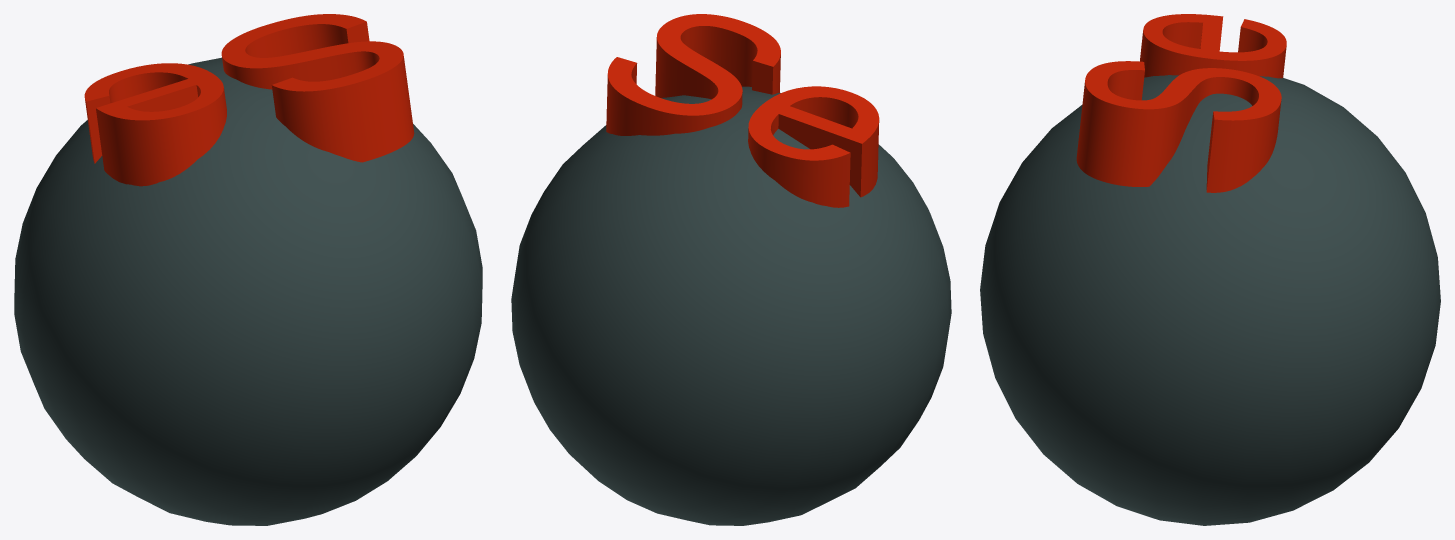
The picture shows the model from 3 angles, left to right: view 1: azimuth 30°, elevation 25°; view 2: azimuth 150°, elevation 25°; view 3: azimuth 270°, elevation 25°; orthographic projection. The views are drawn at different scales.
Visible parts, largest first — view 1: Se; view 2: Se; view 3: Se.
Part boxes in pixels (left/top/right/bottom): Se: left=14, top=14, right=482, bottom=525; Se: left=511, top=14, right=951, bottom=525; Se: left=980, top=14, right=1440, bottom=525.
Size of the model in its own units: 38.64 by 41.76 by 38.72.
